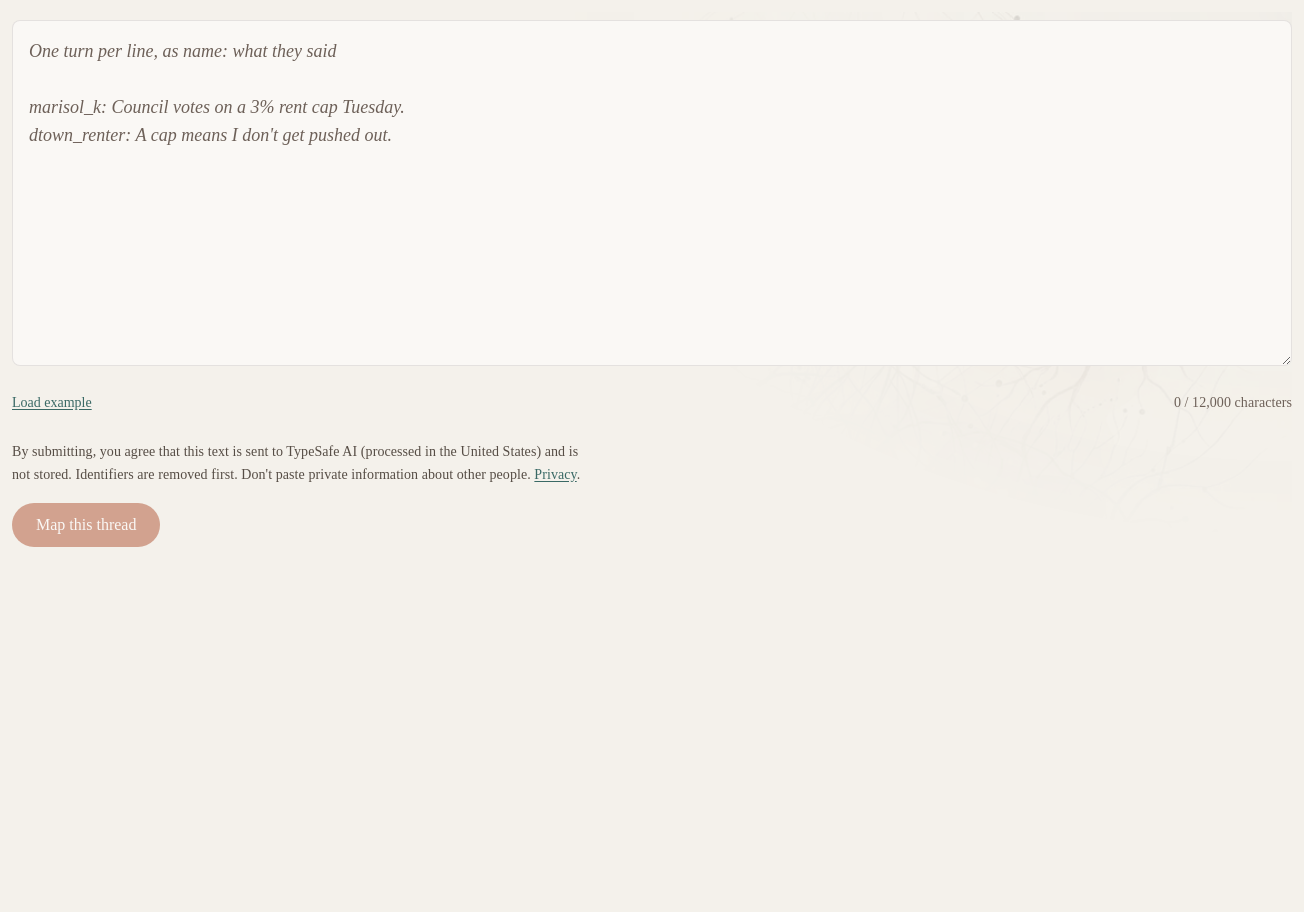
MapReplyClient › shows a no-map result as an answer, with the closest maps
The image size is (1304, 912).
Click the button "Load example": (52, 403) [12, 381, 92, 425]
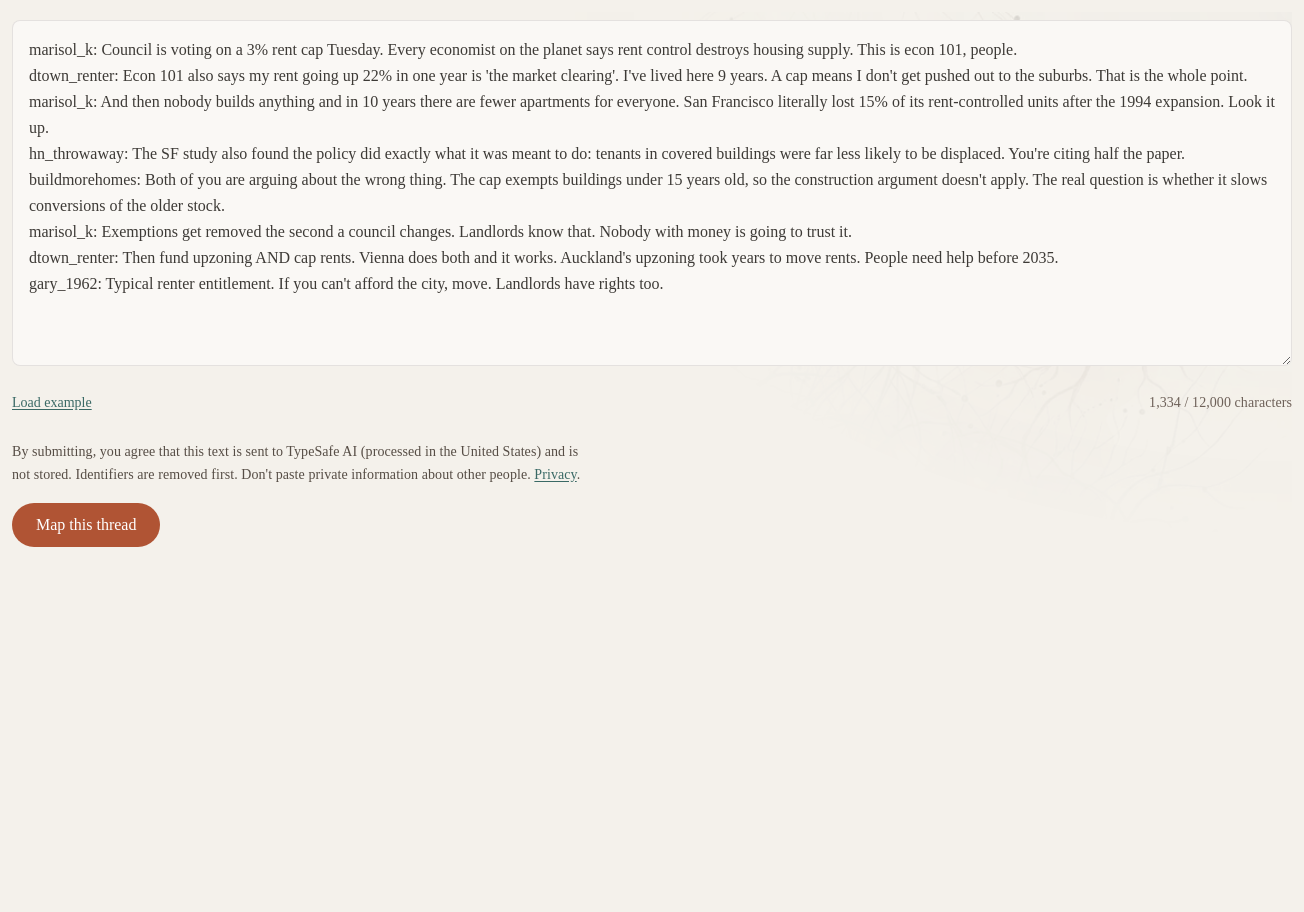
Click the button "Map this thread": (86, 524) [12, 502, 160, 546]
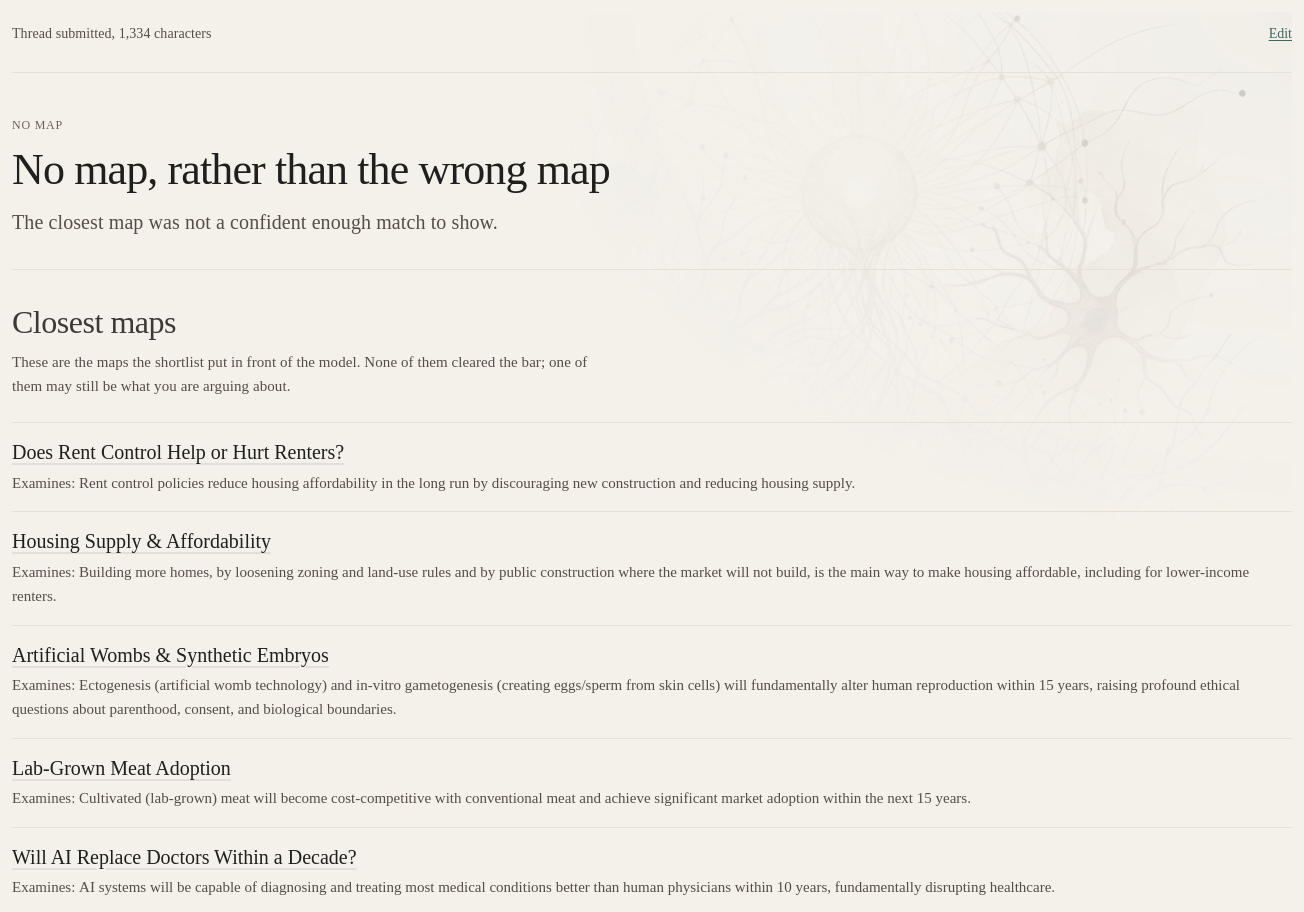
Now the heading "No map, rather than the wrong map" is shown, box [12, 145, 610, 194]
Now the text "The closest map was not a confident enough match to show." is shown, box [12, 211, 498, 233]
Now the heading "Closest maps" is shown, box [12, 302, 176, 342]
